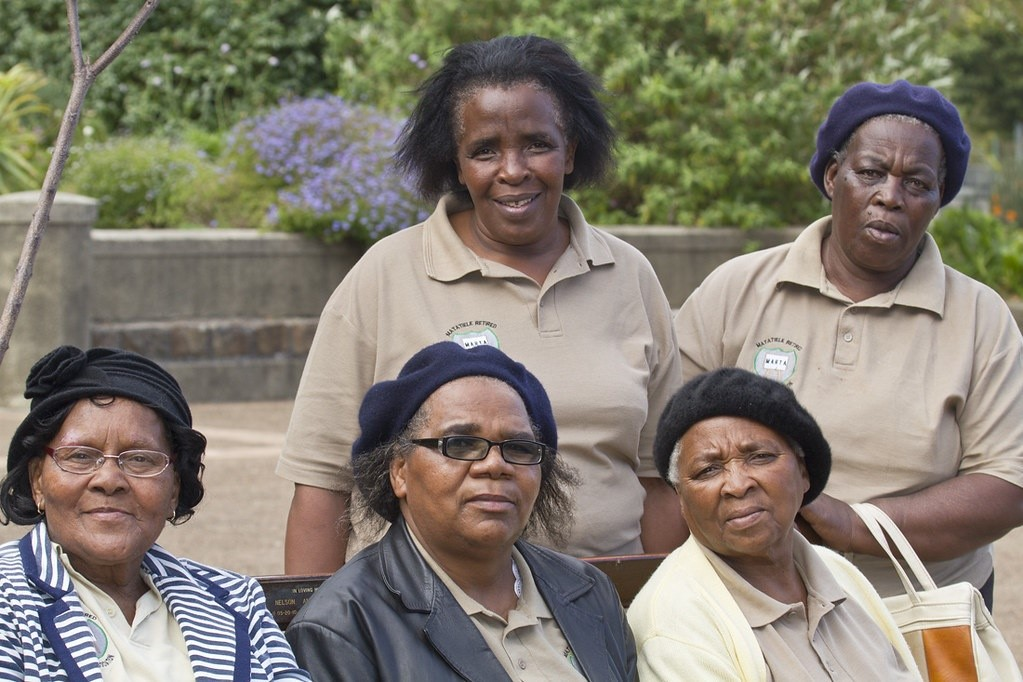face_no_mask: (422, 39, 602, 236), (27, 368, 196, 570), (388, 355, 548, 557), (828, 90, 951, 279), (675, 397, 810, 565)
